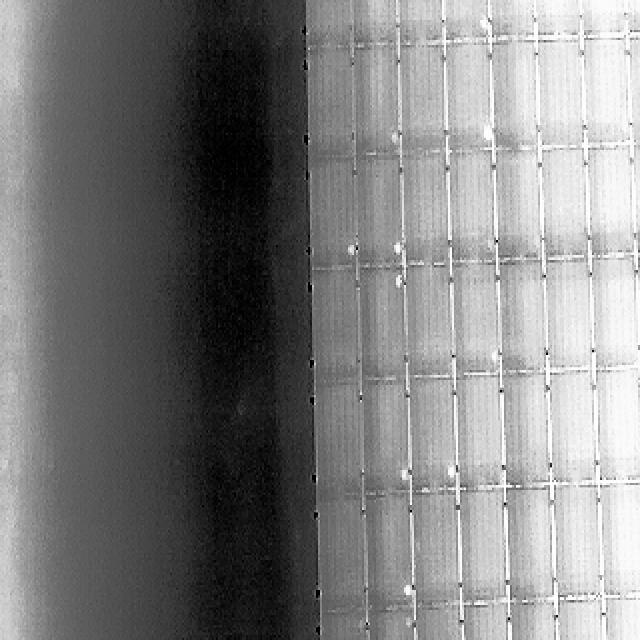Hotspots: (342, 232, 358, 264), (485, 344, 502, 371), (439, 466, 456, 489), (385, 240, 402, 262), (389, 128, 403, 152), (398, 465, 413, 487), (401, 580, 415, 601), (482, 124, 494, 146), (394, 271, 408, 287)
PV-modules: (361, 496, 414, 614), (315, 384, 368, 500), (319, 499, 371, 616), (357, 378, 408, 497), (549, 369, 600, 488), (456, 376, 508, 492), (459, 493, 511, 608), (552, 489, 604, 604), (409, 494, 460, 611), (312, 271, 363, 388), (503, 491, 555, 605), (582, 148, 634, 262), (500, 373, 551, 489), (307, 46, 359, 159), (540, 149, 591, 264), (588, 256, 639, 371), (357, 270, 408, 384), (407, 377, 457, 493), (489, 39, 540, 152), (446, 152, 496, 267), (403, 153, 453, 268), (406, 268, 456, 382), (498, 259, 547, 375), (546, 259, 596, 372), (580, 38, 630, 150), (351, 44, 400, 157), (537, 40, 587, 150), (310, 160, 360, 270), (493, 152, 542, 264), (594, 367, 640, 485), (446, 40, 494, 153), (454, 267, 502, 380), (354, 157, 402, 269), (400, 45, 448, 154), (600, 485, 640, 600), (306, 0, 355, 48), (350, 0, 399, 46), (398, 0, 446, 45), (506, 600, 558, 640), (439, 0, 488, 42), (556, 600, 606, 640), (462, 602, 514, 640), (533, 0, 583, 39), (486, 0, 536, 39), (414, 605, 468, 640), (582, 0, 628, 38), (366, 607, 416, 640), (322, 610, 374, 640), (604, 597, 640, 640), (628, 32, 640, 148), (628, 145, 640, 257), (634, 252, 640, 368), (622, 0, 640, 35)
